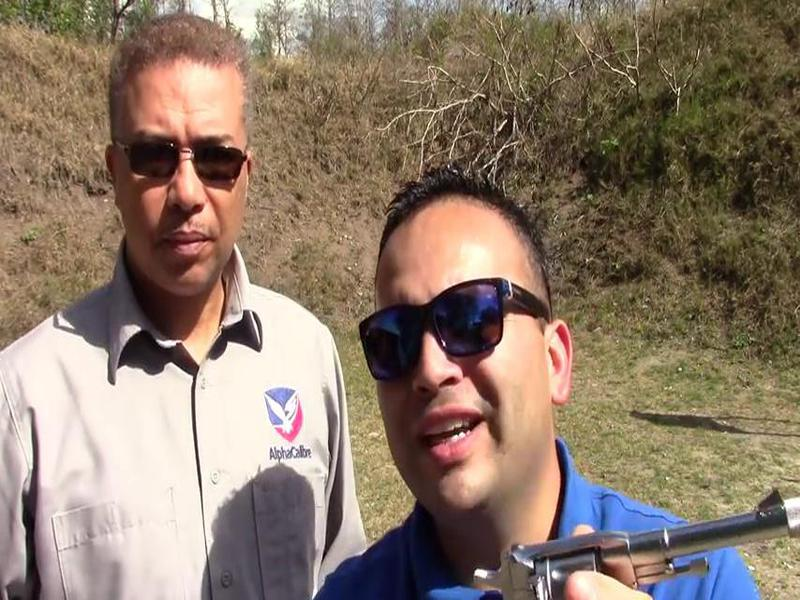Revolver: (407, 467, 798, 600)
